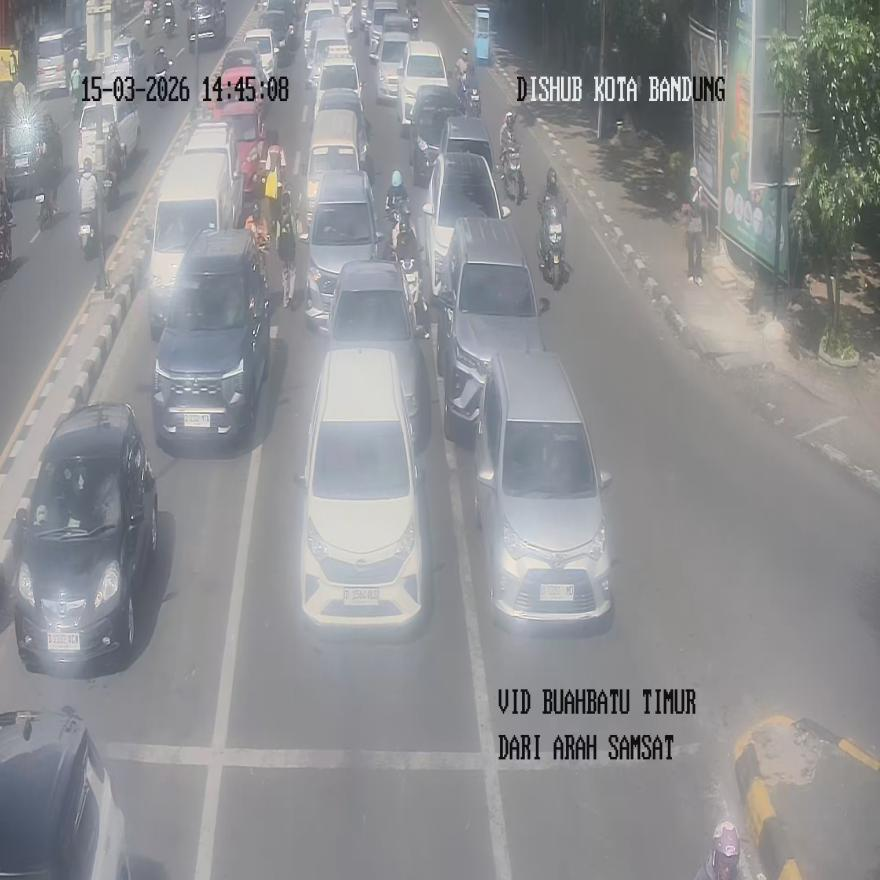Motor: (474, 347, 614, 626), (11, 402, 158, 667), (297, 346, 423, 629), (152, 228, 270, 442), (436, 215, 544, 433), (0, 705, 131, 878), (146, 122, 240, 339), (327, 259, 425, 444), (423, 151, 510, 300), (304, 169, 382, 325)
Truk: (538, 196, 566, 290), (385, 170, 410, 259), (399, 256, 424, 336), (500, 148, 525, 204), (78, 204, 98, 260), (36, 186, 54, 231), (163, 2, 176, 35), (143, 7, 153, 36)
